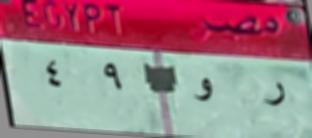4: (41, 55, 65, 93)
9: (100, 63, 128, 98)
raa: (255, 77, 290, 113)
waw: (191, 75, 214, 110)
